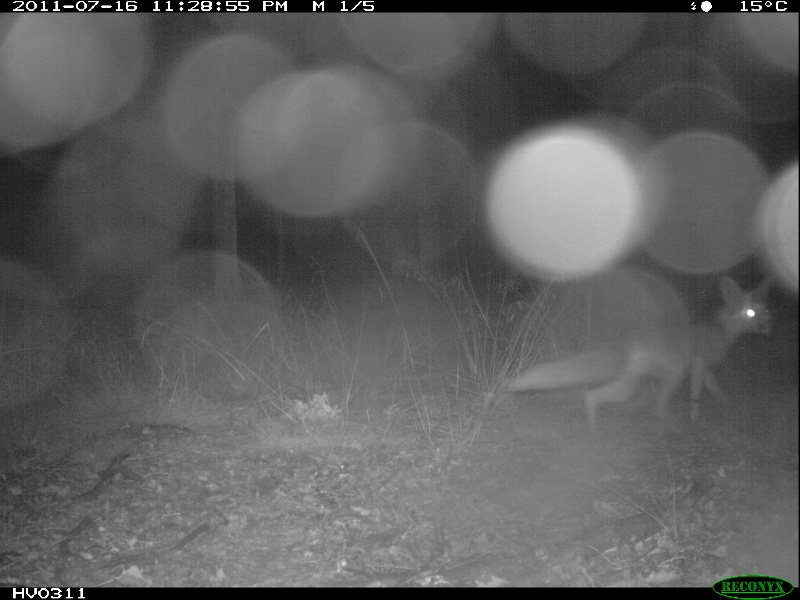fox: (505, 273, 777, 434)
